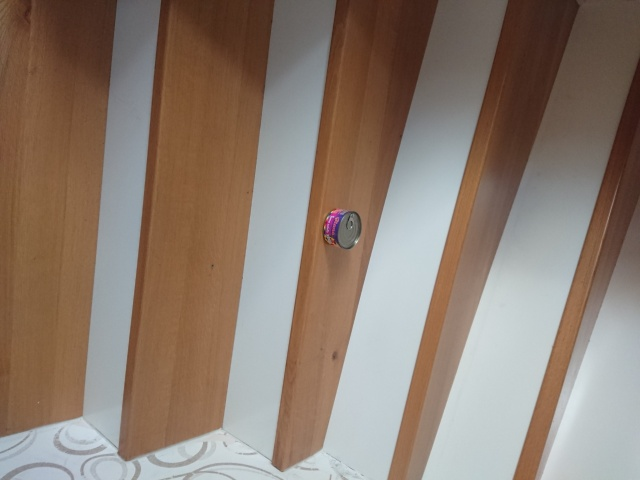Giana Tuna Salad Mexico 185g: (321, 206, 363, 251)
